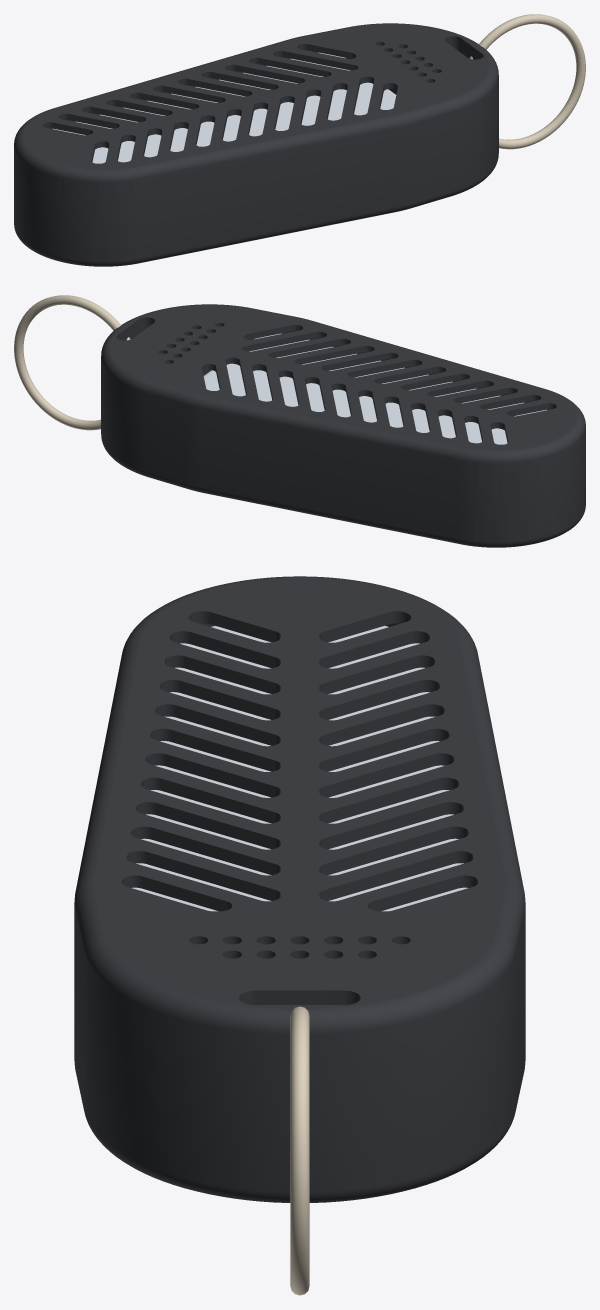
The model's file is solefresh_v3_2_M_assembled.glb.
3 views of the same model, one above another, from view 1: azimuth 30°, elevation 25°; view 2: azimuth 150°, elevation 25°; view 3: azimuth 270°, elevation 25° (orthographic). The views are drawn at different scales.
Visible parts, largest first — view 1: shell_top, shell_bottom, silica_sachet, pull_cord; view 2: shell_top, shell_bottom, silica_sachet, pull_cord; view 3: shell_top, shell_bottom, silica_sachet, pull_cord.
Part boxes in pixels (left/top/right/bottom): shell_top: left=14, top=23, right=498, bottom=221; shell_bottom: left=14, top=58, right=498, bottom=266; silica_sachet: left=53, top=52, right=396, bottom=163; pull_cord: left=469, top=14, right=585, bottom=149; shell_top: left=101, top=304, right=585, bottom=502; shell_bottom: left=101, top=339, right=585, bottom=547; silica_sachet: left=203, top=333, right=546, bottom=444; pull_cord: left=14, top=295, right=130, bottom=430; shell_top: left=74, top=576, right=525, bottom=1113; shell_bottom: left=74, top=982, right=525, bottom=1202; silica_sachet: left=132, top=625, right=467, bottom=911; pull_cord: left=290, top=1006, right=309, bottom=1295.
Bounding box in the file's own units: 0.134 × 0.03 × 0.0468.
